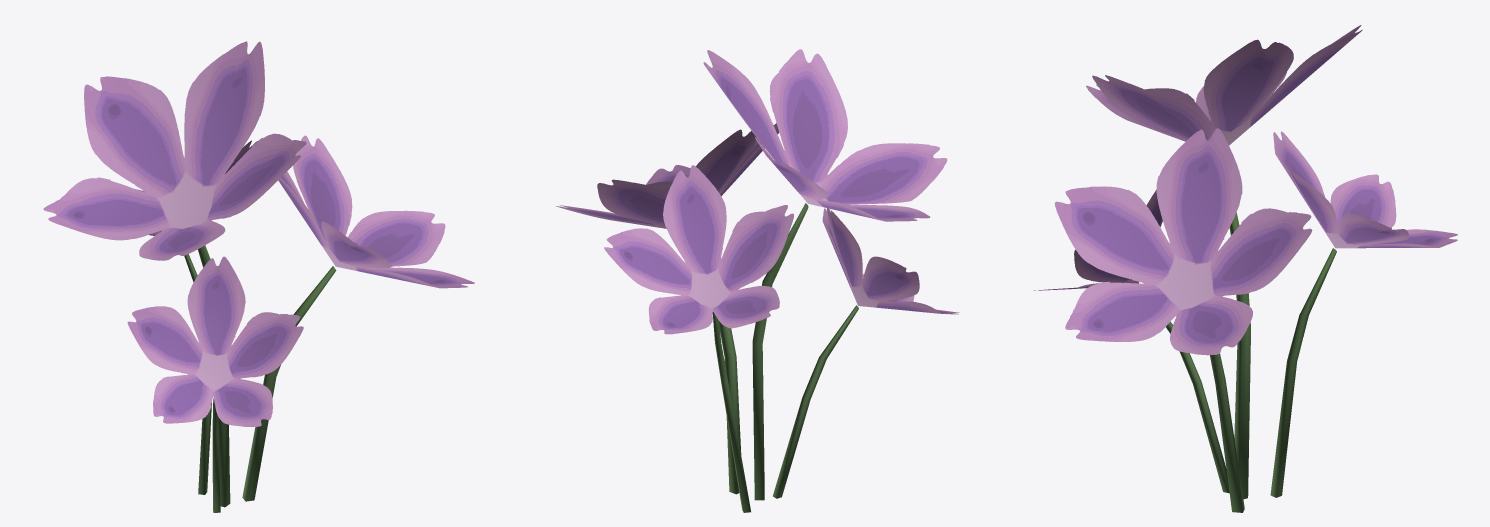
The model's file is flowers_purple.glb.
The picture shows the model from 3 angles, left to right: view 1: azimuth 30°, elevation 25°; view 2: azimuth 150°, elevation 25°; view 3: azimuth 270°, elevation 25°; orthographic projection. The views are drawn at different scales.
Parts seen in each view (by area): view 1: Flower_5_Clump; view 2: Flower_5_Clump; view 3: Flower_5_Clump.
Boxes of the visible parts, left/top/right/bottom form: Flower_5_Clump: left=43, top=41, right=474, bottom=512; Flower_5_Clump: left=556, top=49, right=959, bottom=512; Flower_5_Clump: left=1033, top=25, right=1457, bottom=512.
Bounding box in the file's own units: 0.426 × 0.4508 × 0.3735.
Materials: 1 (1 with a texture image).
